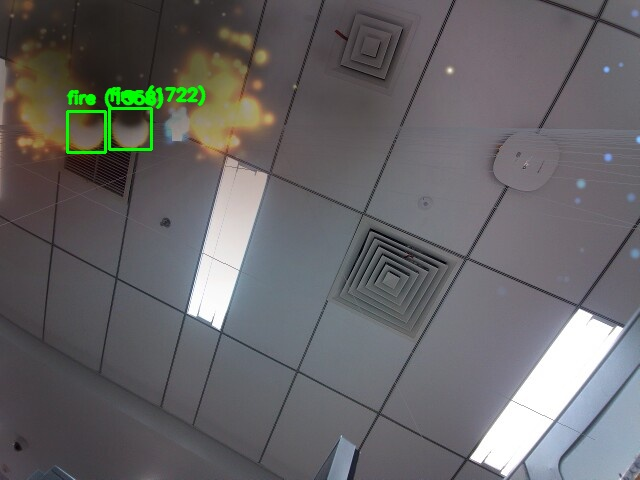fire: (109, 108, 151, 149), (67, 111, 105, 152)
